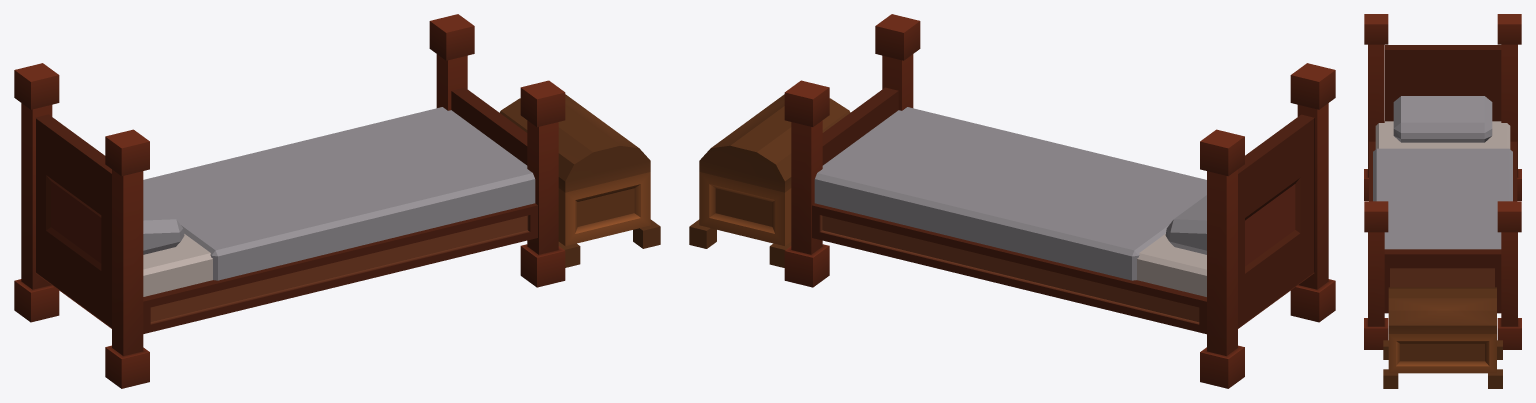
Rendered from bed3white.glb.
3 views of the same model, side by side, from view 1: azimuth 30°, elevation 25°; view 2: azimuth 150°, elevation 25°; view 3: azimuth 270°, elevation 25° (orthographic). The views are drawn at different scales.
Parts seen in each view (by area): view 1: Cube.011; view 2: Cube.011; view 3: Cube.011.
Boxes of the visible parts, x1,y1,x2,y2 form: Cube.011: [14, 14, 660, 388]; Cube.011: [689, 14, 1335, 388]; Cube.011: [1364, 14, 1521, 388].
Size of the model in its own units: 2.97 by 1.24 by 0.9996.
